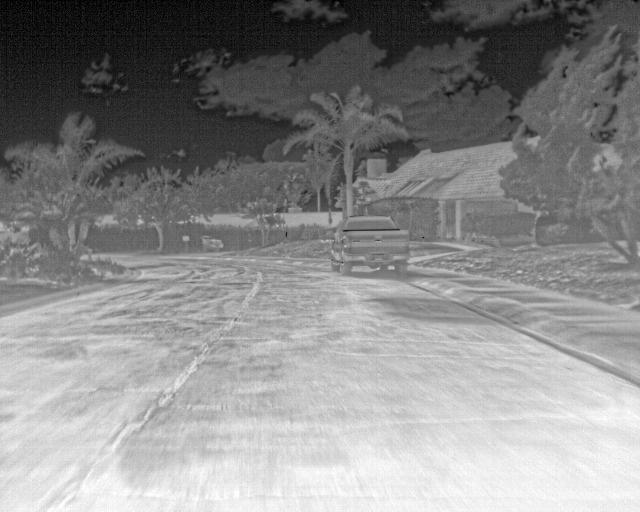car: (329, 213, 411, 276)
